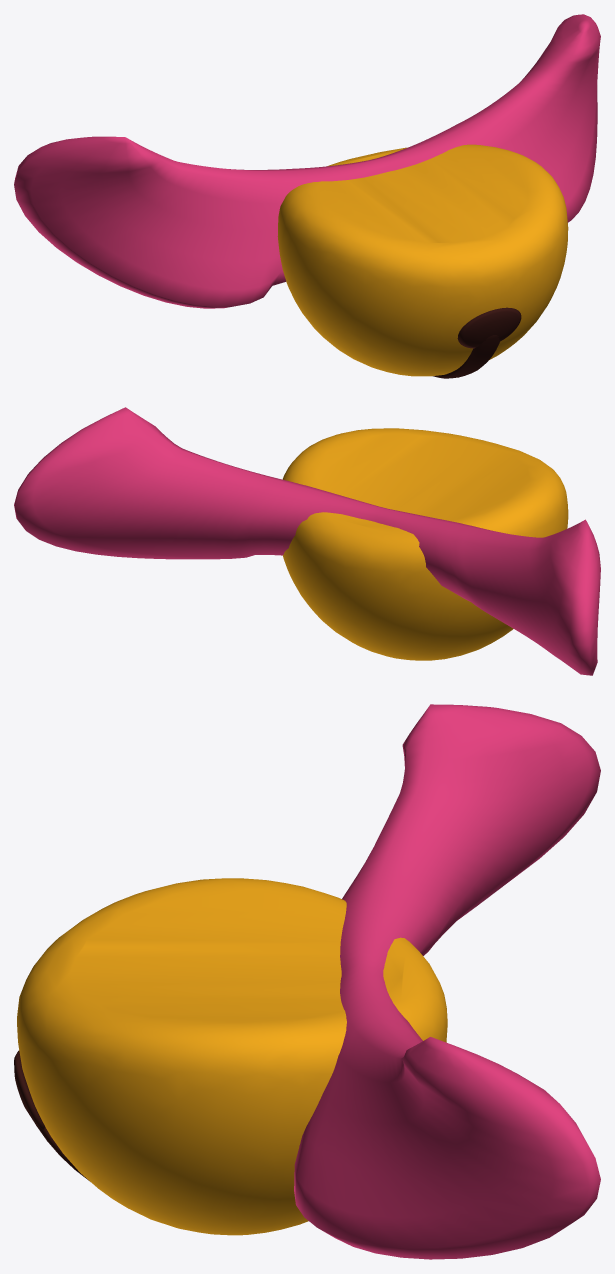
Rendered from bell-collar.glb.
3 renders of one model, top to bottom at view 1: azimuth 30°, elevation 25°; view 2: azimuth 150°, elevation 25°; view 3: azimuth 270°, elevation 25°, orthographic. The views are drawn at different scales.
Parts seen in each view (by area): view 1: bell_collar_collar, bell_collar_bell, bell_collar_keyhole; view 2: bell_collar_collar, bell_collar_bell; view 3: bell_collar_bell, bell_collar_collar, bell_collar_keyhole.
Boxes of the visible parts, x1,y1,x2,y2 form: bell_collar_collar: [14, 14, 600, 308]; bell_collar_bell: [277, 144, 568, 376]; bell_collar_keyhole: [433, 307, 521, 378]; bell_collar_collar: [14, 407, 600, 675]; bell_collar_bell: [282, 428, 568, 660]; bell_collar_bell: [17, 878, 447, 1235]; bell_collar_collar: [294, 704, 600, 1259]; bell_collar_keyhole: [14, 1050, 88, 1180].
Size of the model in its own units: 0.9598 by 0.3721 by 0.5723.
